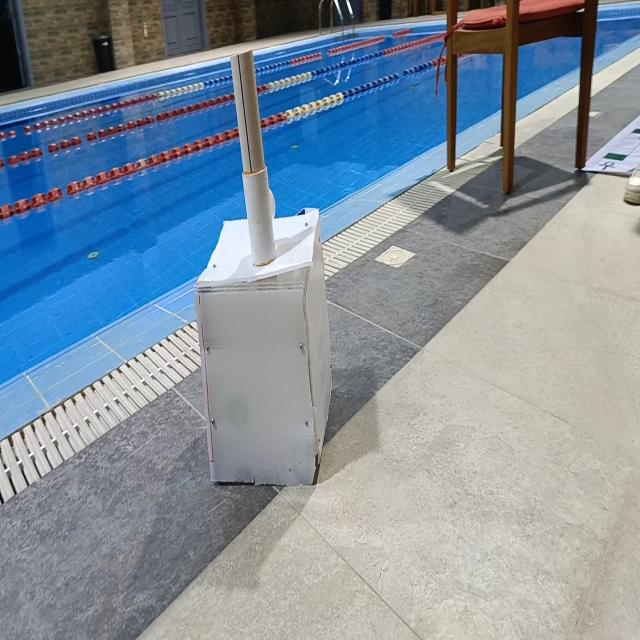Cube: (194, 206, 332, 487)
